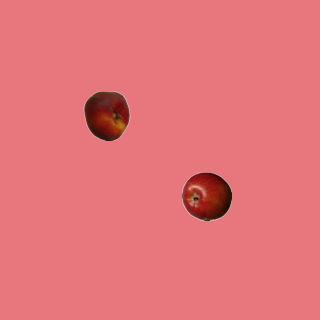Apple Braeburn: (181, 171, 231, 221)
Nectarine Flat: (81, 90, 131, 140)
